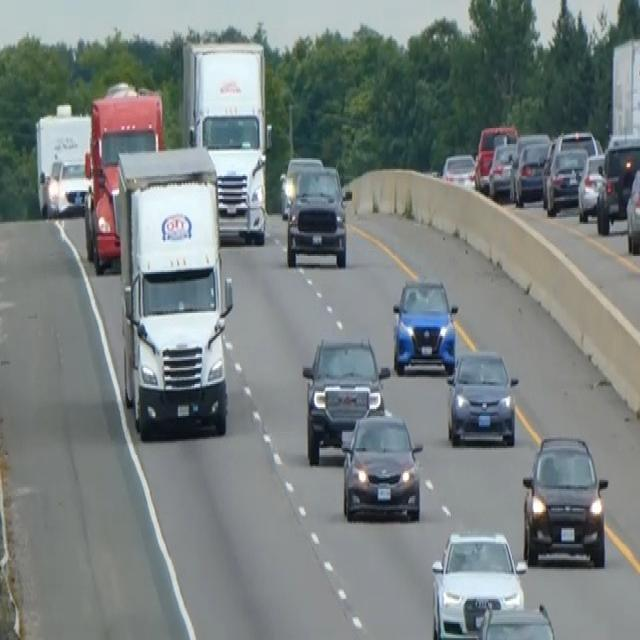car: (520, 432, 609, 569), (301, 332, 389, 464), (429, 528, 526, 638), (339, 403, 423, 522), (445, 347, 519, 446), (285, 162, 351, 268), (391, 276, 458, 375), (596, 132, 639, 235), (542, 144, 588, 215), (472, 601, 559, 638), (278, 153, 323, 219), (474, 123, 516, 192), (510, 137, 550, 206), (577, 151, 606, 221), (56, 155, 87, 217), (487, 141, 517, 199), (441, 150, 476, 188), (625, 162, 639, 254)
lorry: (114, 144, 234, 439)
